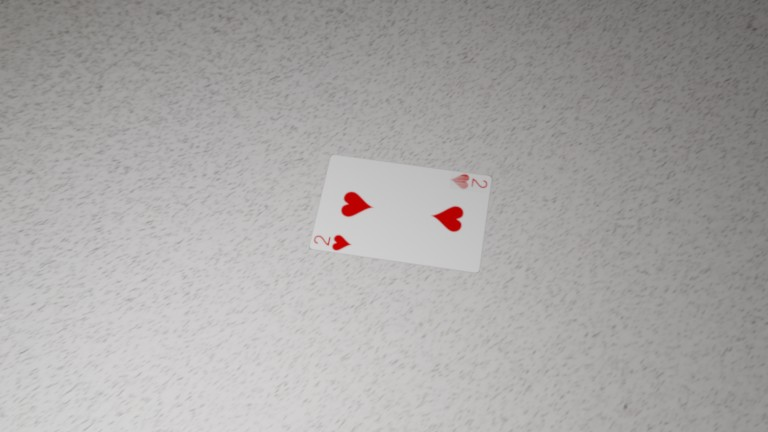2_of_hearts: (311, 230, 354, 254), (449, 171, 489, 193)
